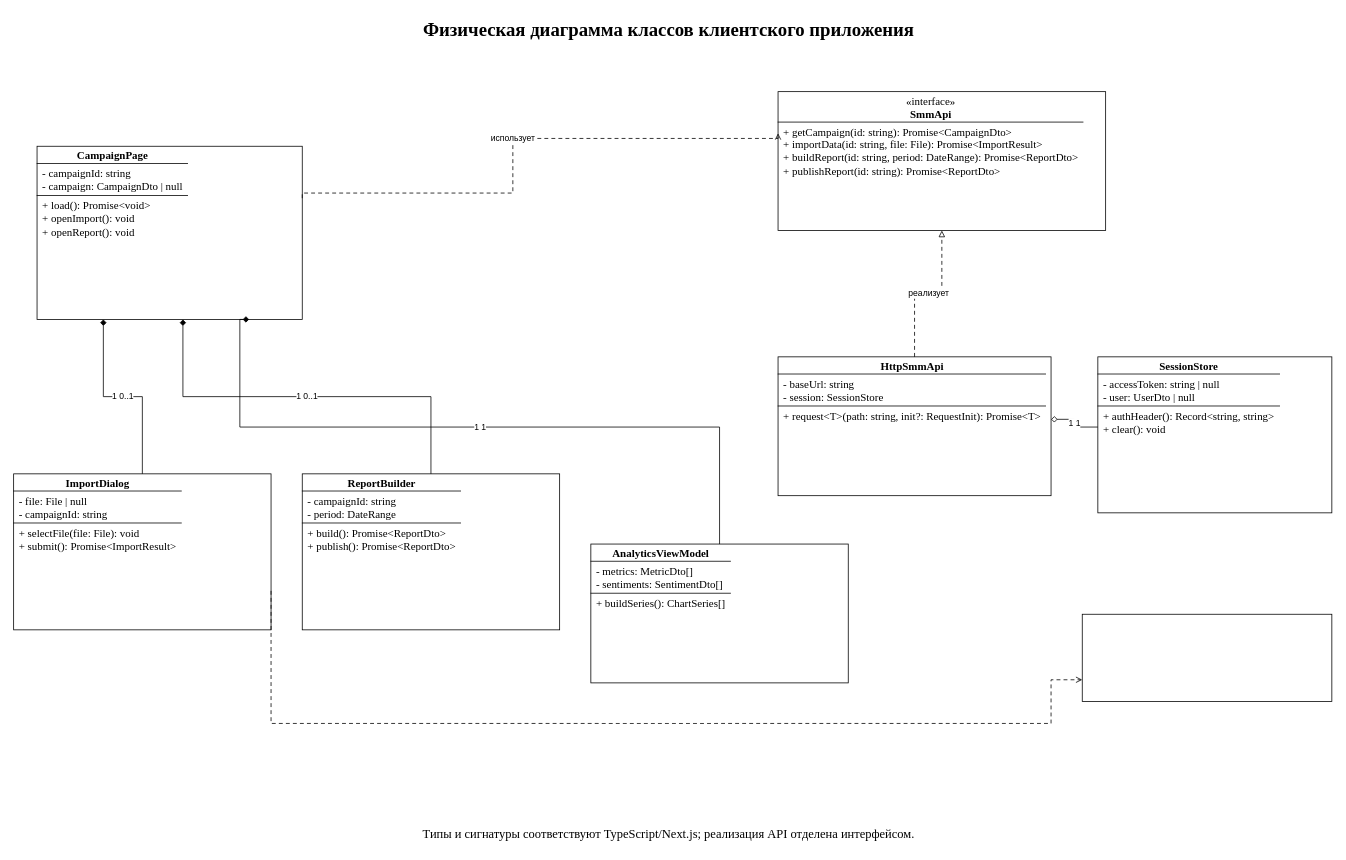
Image size: 1346x860. Some labels were removed from this diagram. Here are the shapes that lost their labels. From the top down, the centre of each, then its label:
(x=1206, y=657): FileValidator + validate(file: File): ValidationResult
(x=656, y=713): проверяет файл
